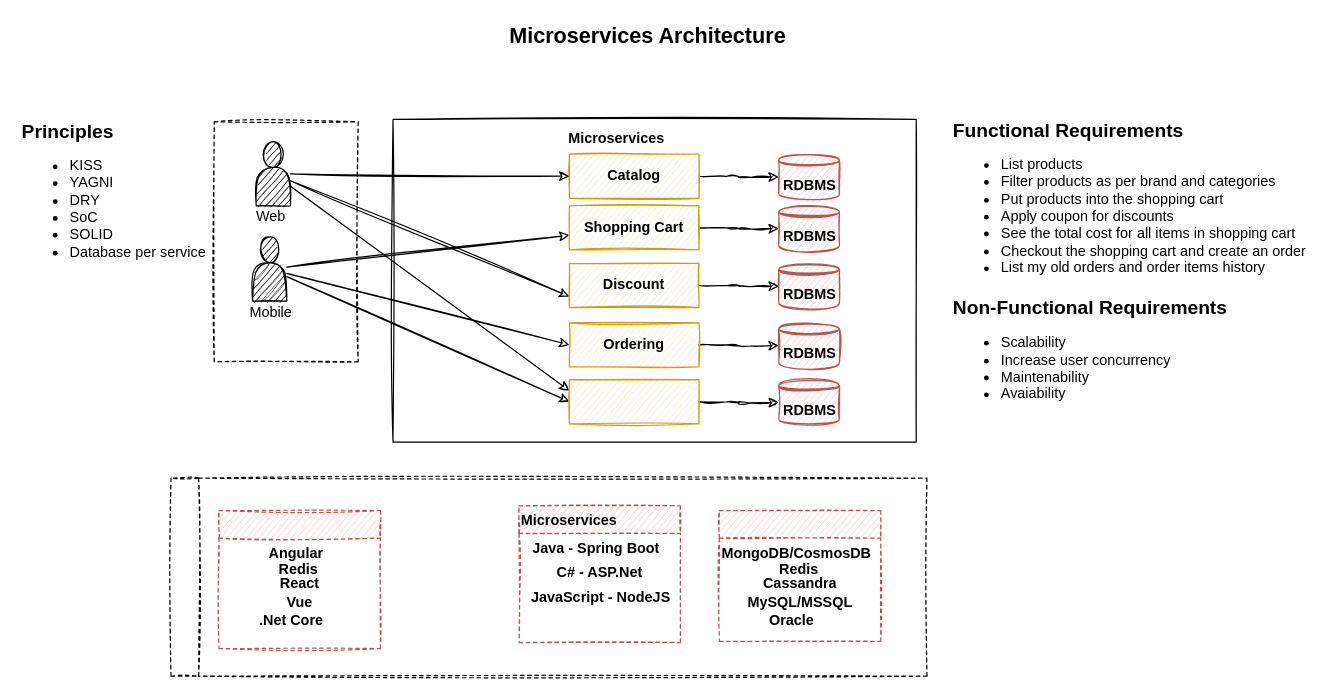
Some shapes in this 1336 by 697 pixel diagram are drawn without their labels. Each missing label, with the box of its shape:
Databases: (718, 509, 881, 641)
Payment: (568, 378, 699, 424)
Technology stack: (170, 477, 927, 676)
UI: (218, 509, 380, 649)
